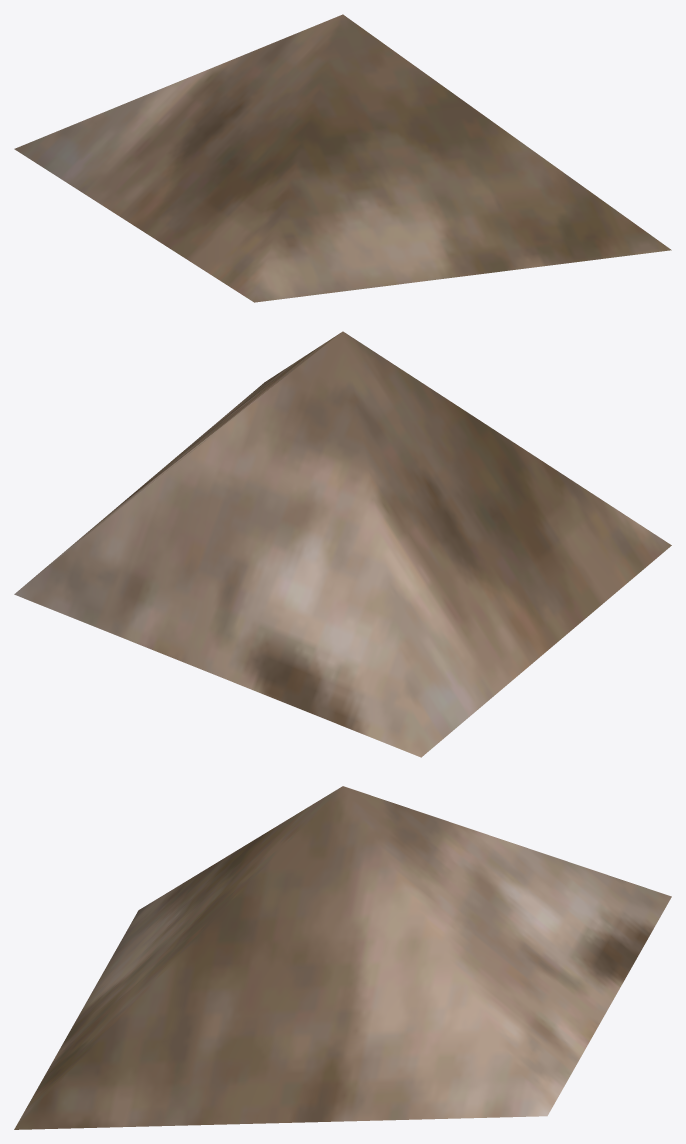
Rendered from OVERHILL_A_01_PLANE08.fbx.
3 renders of one model, top to bottom at view 1: azimuth 30°, elevation 25°; view 2: azimuth 150°, elevation 25°; view 3: azimuth 270°, elevation 25°, orthographic. The views are drawn at different scales.
Parts seen in each view (by area): view 1: OVERHILL_A_01_PLANE08; view 2: OVERHILL_A_01_PLANE08; view 3: OVERHILL_A_01_PLANE08.
Boxes of the visible parts, x1,y1,x2,y2 form: OVERHILL_A_01_PLANE08: (14, 14, 671, 302); OVERHILL_A_01_PLANE08: (14, 331, 671, 757); OVERHILL_A_01_PLANE08: (14, 786, 671, 1129).
Bounding box in the file's own units: 1238 × 562 × 1476.
Materials: 1 (1 with a texture image).
